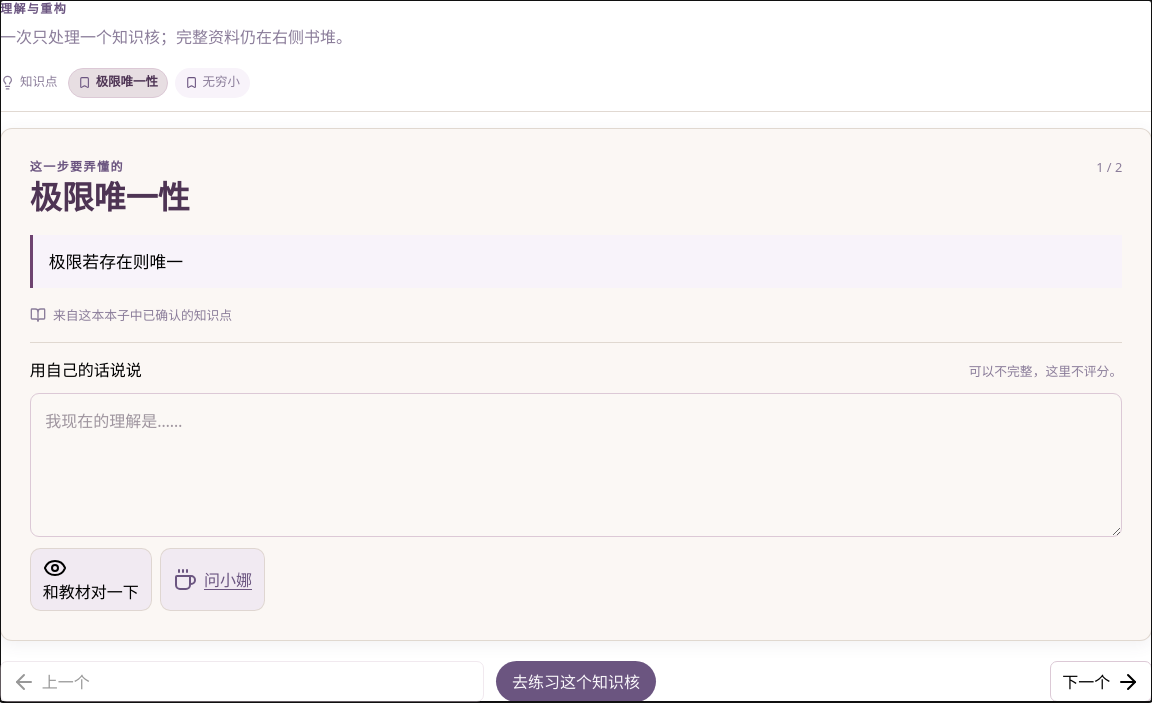
Test: LearnPage › shows the scoped knowledge-core sequence as a compact selectable index
The image size is (1152, 720).
Click the button "无穷小".
click(212, 83)  # box [175,68,250,98]
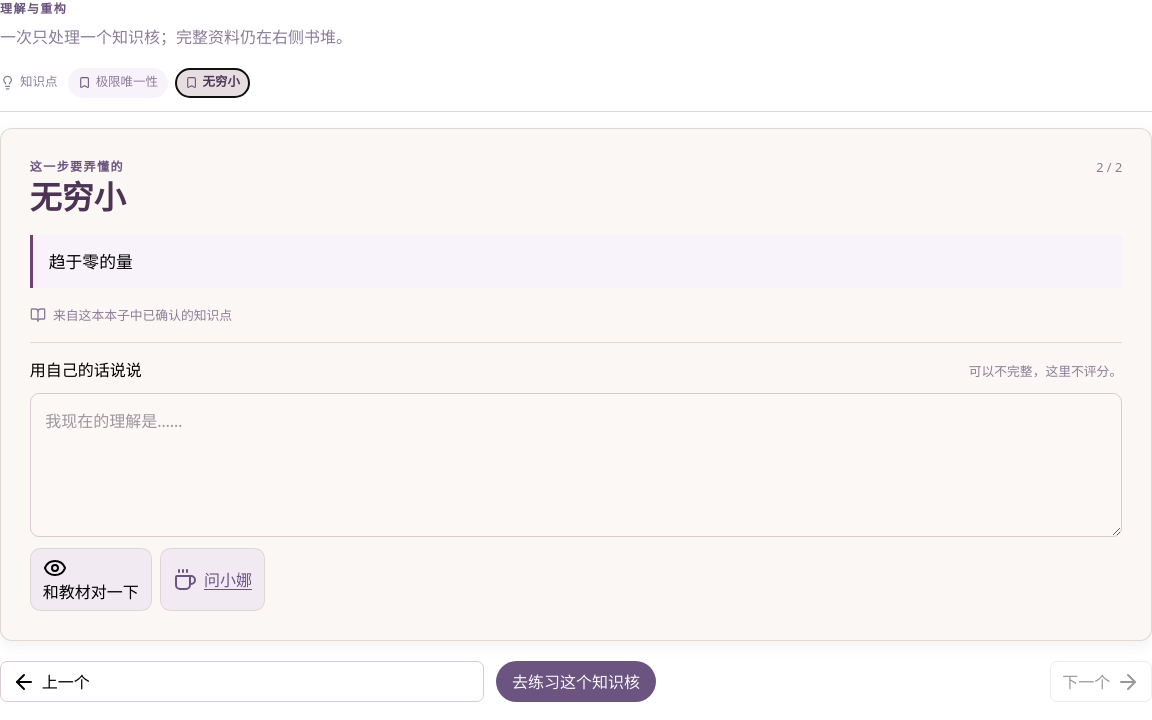
Expected: the heading "无穷小" is shown, [30,179,126,217]
